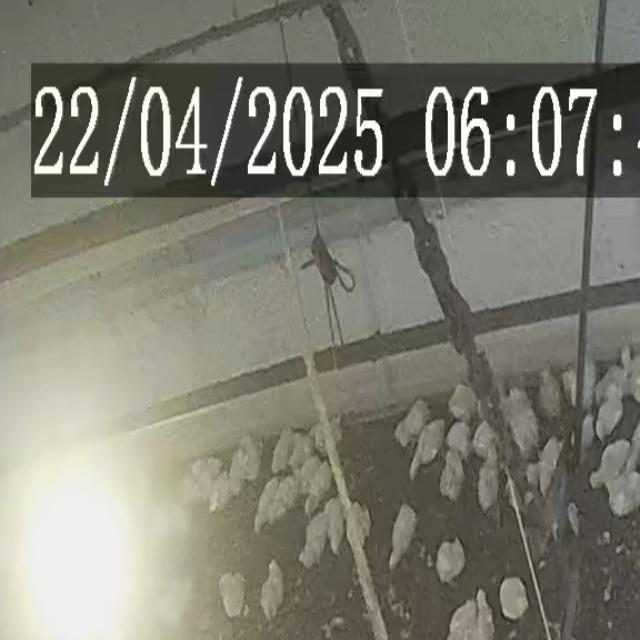chicken: (386, 499, 419, 572), (407, 420, 445, 481), (295, 506, 327, 572), (393, 398, 430, 448), (258, 558, 285, 624), (534, 438, 562, 500), (498, 574, 532, 622), (434, 537, 467, 586), (218, 568, 248, 619), (594, 393, 625, 442), (438, 452, 465, 504), (477, 462, 501, 514), (447, 383, 478, 423), (471, 419, 499, 460), (444, 419, 472, 458)
